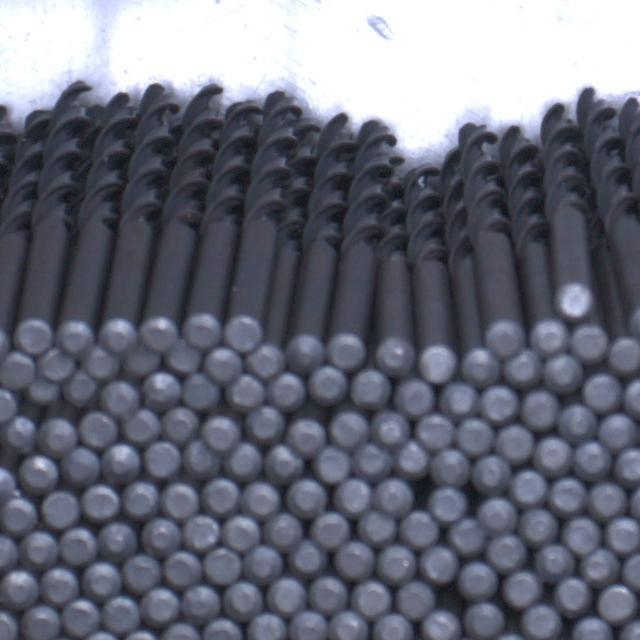tool: (306, 364, 348, 404), (17, 454, 58, 494), (584, 371, 624, 411), (288, 477, 328, 517), (330, 408, 370, 448), (100, 443, 140, 483), (59, 448, 99, 488), (350, 368, 390, 408), (283, 332, 323, 372), (265, 442, 305, 482), (336, 541, 376, 580), (122, 552, 161, 592), (180, 439, 220, 478), (521, 390, 559, 430), (39, 489, 79, 527), (375, 545, 415, 583), (352, 580, 392, 618), (480, 386, 520, 424), (400, 510, 440, 548), (139, 586, 179, 624), (598, 412, 638, 450), (495, 424, 535, 462), (395, 378, 435, 416), (38, 416, 78, 454), (326, 331, 366, 369), (308, 576, 348, 614), (264, 512, 304, 550), (266, 576, 306, 614), (242, 545, 282, 583), (222, 582, 262, 620), (535, 436, 573, 476), (485, 319, 525, 357), (505, 348, 545, 386), (545, 352, 585, 390), (352, 442, 392, 480), (139, 519, 179, 557), (478, 496, 518, 534), (372, 476, 412, 514), (200, 476, 240, 514), (138, 316, 178, 354), (97, 520, 137, 558), (458, 562, 498, 600), (534, 544, 574, 582), (375, 336, 413, 376), (285, 538, 325, 576), (598, 583, 637, 621), (1, 569, 39, 608), (463, 346, 502, 384), (576, 439, 614, 478), (80, 411, 120, 448), (462, 601, 502, 638), (562, 517, 602, 554), (226, 374, 266, 411), (266, 369, 306, 406), (142, 371, 182, 408), (58, 526, 96, 564), (396, 580, 434, 618), (41, 566, 79, 604), (225, 314, 263, 352), (180, 583, 218, 621), (100, 594, 138, 632), (288, 416, 326, 454), (560, 403, 598, 441), (225, 442, 263, 480), (184, 372, 222, 410), (572, 324, 610, 362), (247, 405, 285, 443), (554, 577, 592, 615), (532, 318, 570, 356), (555, 279, 593, 317), (421, 342, 458, 381), (80, 560, 119, 597), (202, 346, 242, 382), (161, 549, 201, 585), (100, 380, 140, 416), (121, 408, 161, 444), (371, 409, 411, 445), (242, 480, 282, 516), (432, 448, 472, 484), (456, 417, 494, 454), (61, 598, 98, 636), (162, 481, 200, 518), (312, 512, 350, 549), (57, 320, 95, 357), (475, 456, 513, 493), (20, 604, 59, 640), (17, 532, 56, 568), (358, 509, 397, 545), (98, 317, 137, 353), (202, 414, 242, 449), (122, 342, 162, 377), (203, 548, 241, 584), (180, 514, 218, 550), (15, 317, 53, 353), (144, 441, 182, 477), (582, 549, 620, 585), (223, 514, 261, 550), (182, 312, 220, 348), (313, 446, 351, 482), (82, 483, 120, 519), (550, 477, 588, 513), (417, 412, 455, 448), (421, 546, 459, 582), (520, 509, 558, 545), (504, 569, 542, 605), (488, 532, 526, 568), (511, 469, 549, 505), (521, 603, 560, 638), (0, 495, 36, 532), (442, 381, 479, 417), (334, 478, 371, 514), (122, 481, 160, 516), (590, 481, 628, 516), (162, 407, 200, 442), (429, 485, 467, 520), (396, 438, 432, 474), (450, 517, 486, 553), (0, 352, 35, 389), (0, 415, 35, 452), (248, 343, 286, 377), (36, 346, 75, 379), (421, 609, 461, 640), (62, 369, 98, 403), (84, 344, 120, 378), (329, 610, 369, 640), (607, 516, 640, 552), (168, 340, 204, 373), (289, 610, 328, 640), (610, 334, 640, 372), (247, 612, 286, 640), (374, 614, 414, 640), (572, 617, 612, 640), (202, 618, 242, 640), (618, 446, 640, 482), (160, 623, 200, 640), (0, 534, 18, 570), (625, 375, 640, 417), (624, 551, 640, 590), (0, 388, 16, 422), (0, 610, 18, 640), (621, 618, 640, 640), (122, 629, 160, 640), (631, 479, 640, 520), (83, 631, 121, 640), (488, 633, 530, 640)
